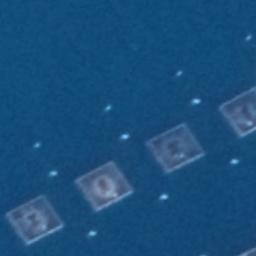square_cover: (71, 157, 136, 215), (144, 120, 207, 177), (5, 192, 65, 249), (219, 83, 256, 138)
